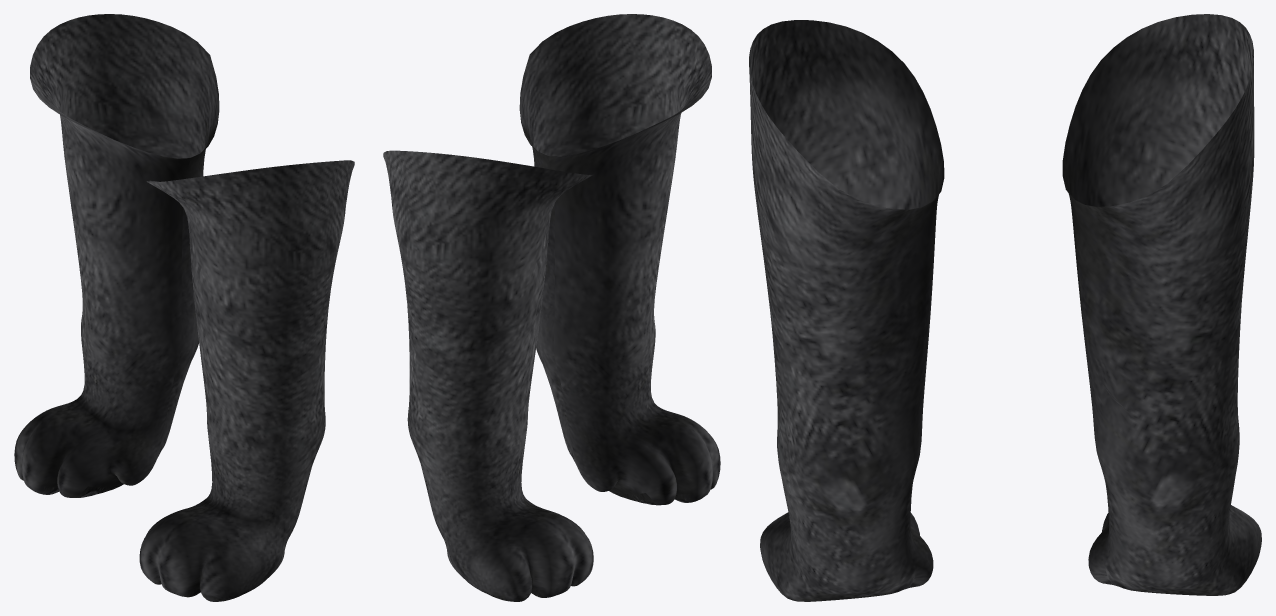
The model's file is patasDelanteras.fbx.
The picture shows the model from 3 angles, left to right: view 1: azimuth 30°, elevation 25°; view 2: azimuth 150°, elevation 25°; view 3: azimuth 270°, elevation 25°; orthographic projection. The views are drawn at different scales.
Visible parts, largest first — view 1: Cat.001; view 2: Cat.001; view 3: Cat.001.
Part boxes in pixels (x1=…): Cat.001: x1=14, y1=14, x2=354, y2=601; Cat.001: x1=383, y1=14, x2=720, y2=601; Cat.001: x1=749, y1=14, x2=1261, y2=601.
Size of the model in its own units: 709 by 1523 by 1254.
